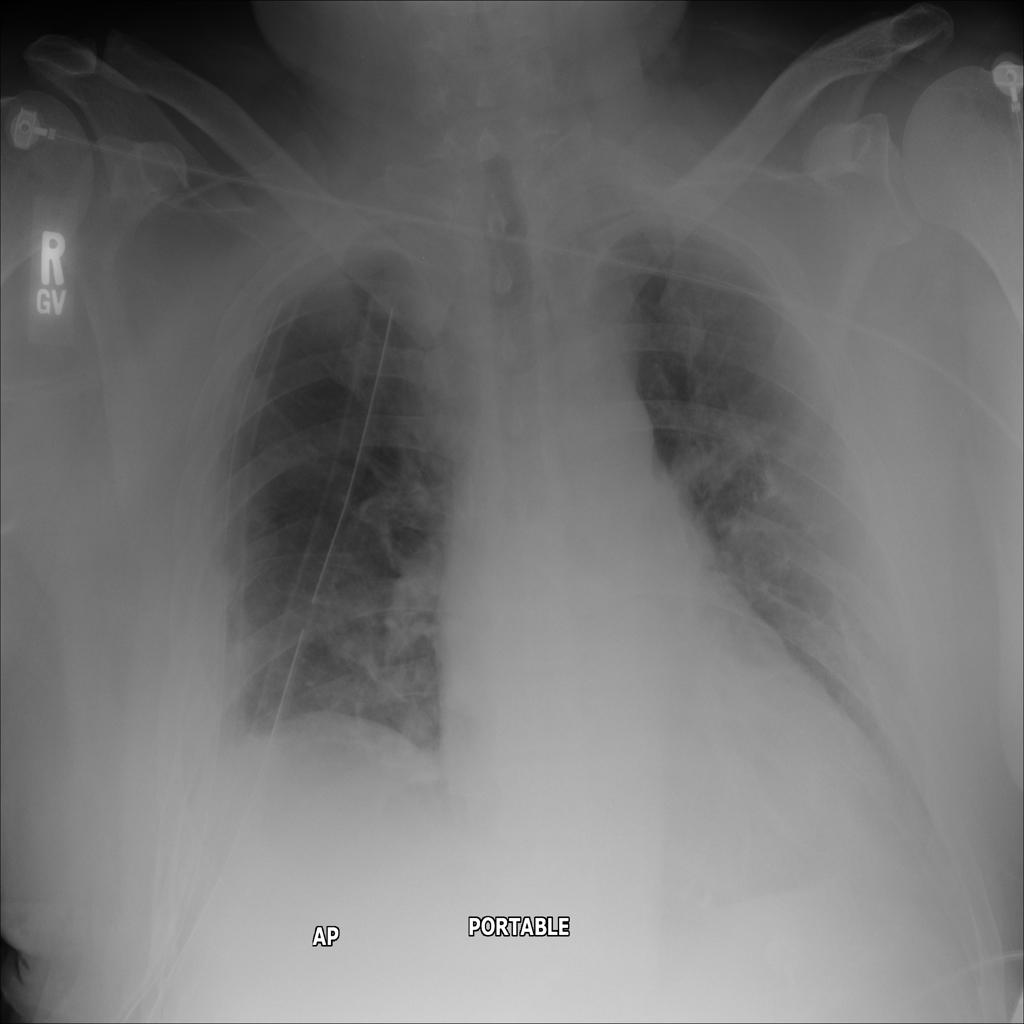nodule: (384, 694, 456, 764)
